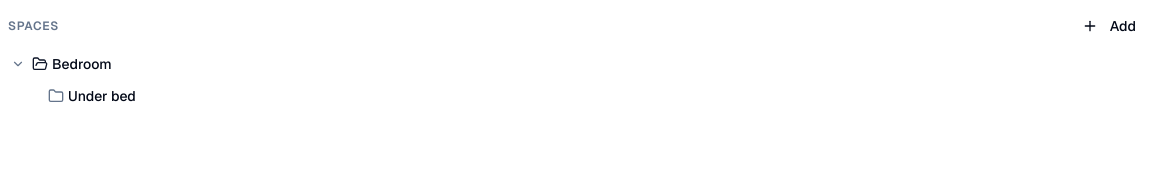
SpaceTree › collapses children when the toggle is clicked
Expected: the link "Under bed" is shown, [68, 87, 136, 105]
Click the button named "collapse": (18, 64) [8, 54, 28, 74]
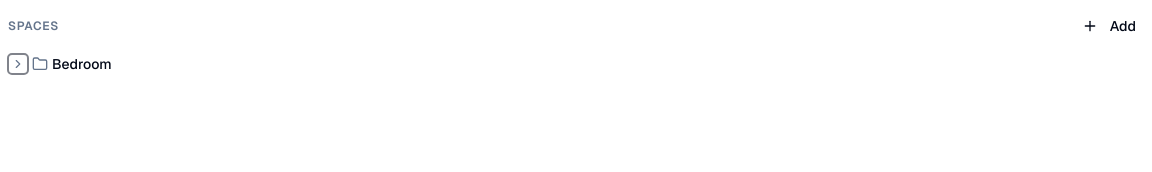
Expected: the link "Under bed" is gone
